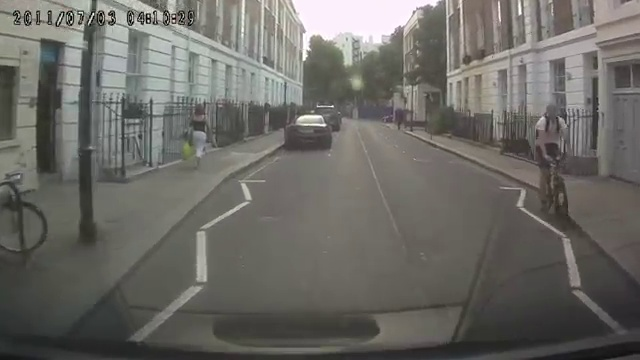cyclist_front: (531, 95, 574, 229)
